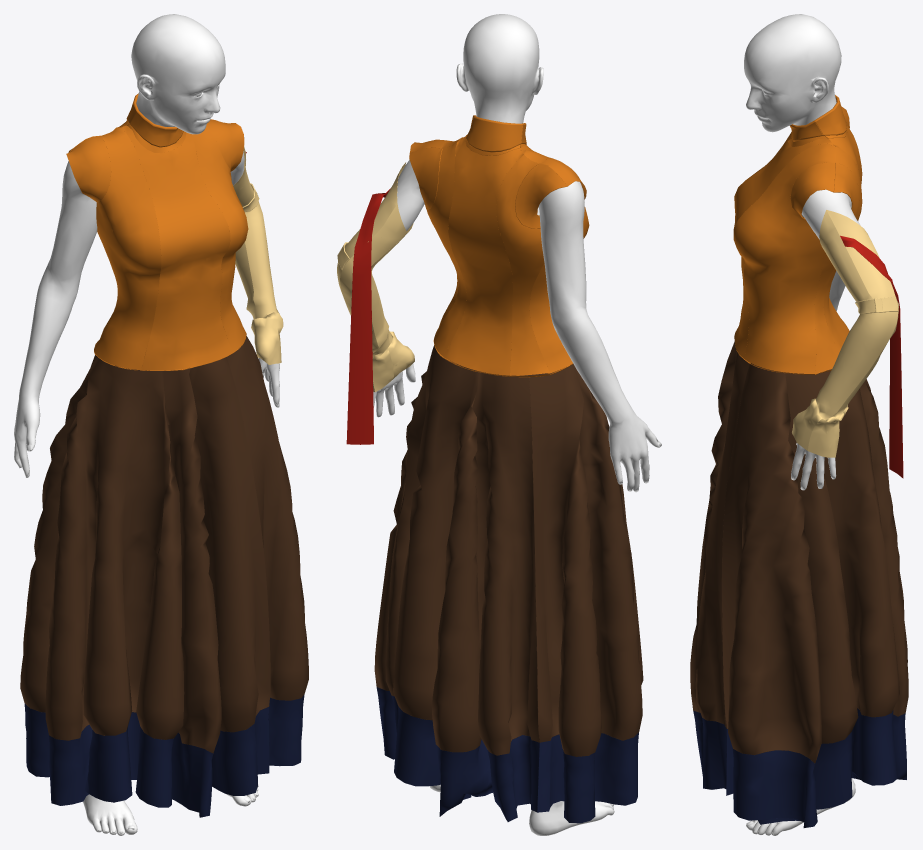
The model's file is dries1.fbx.
3 views of the same model, side by side, from view 1: azimuth 30°, elevation 25°; view 2: azimuth 150°, elevation 25°; view 3: azimuth 270°, elevation 25° (orthographic).
Parts seen in each view (by area): view 1: Dries1-1; view 2: Dries1-1; view 3: Dries1-1.
Boxes of the visible parts, <box> form: Dries1-1: <box>14,14,308,835</box>; Dries1-1: <box>337,14,661,835</box>; Dries1-1: <box>690,14,908,835</box>.
Size of the model in its own units: 72.3 by 196 by 49.13.
